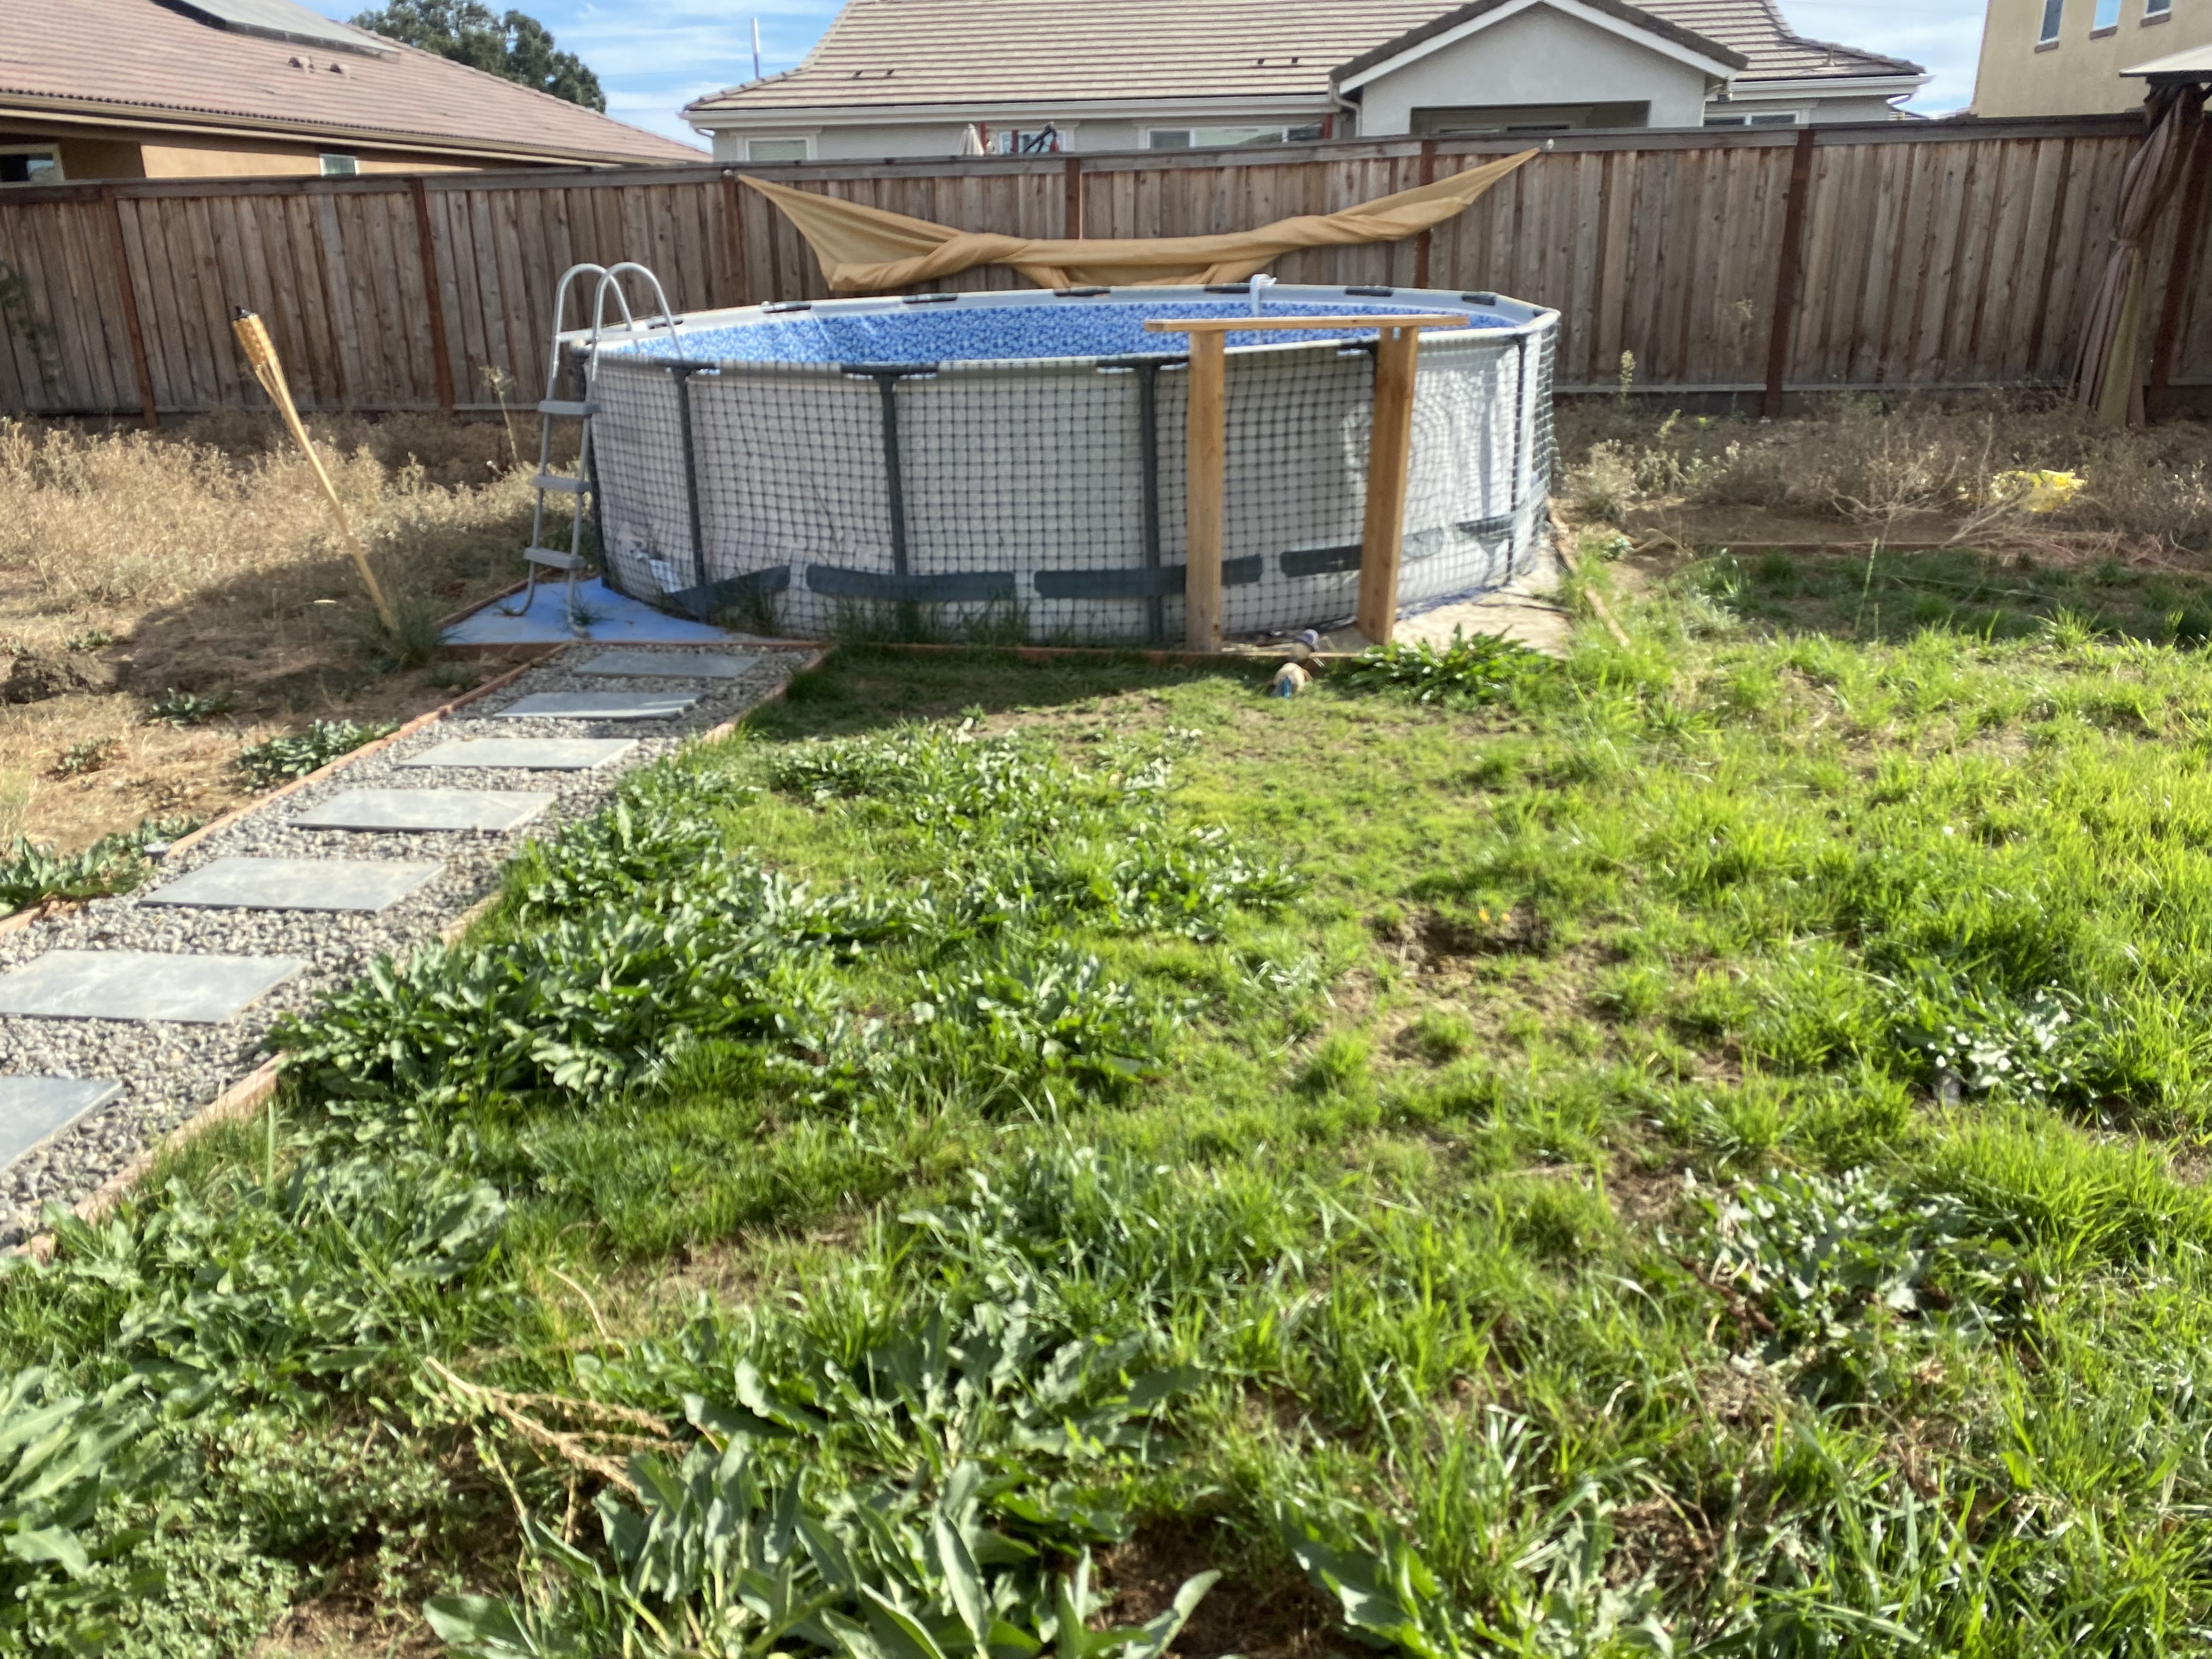weed: (24, 1183, 528, 1659), (561, 1316, 1125, 1638), (301, 953, 773, 1082), (1355, 627, 1547, 695), (0, 826, 169, 887)
